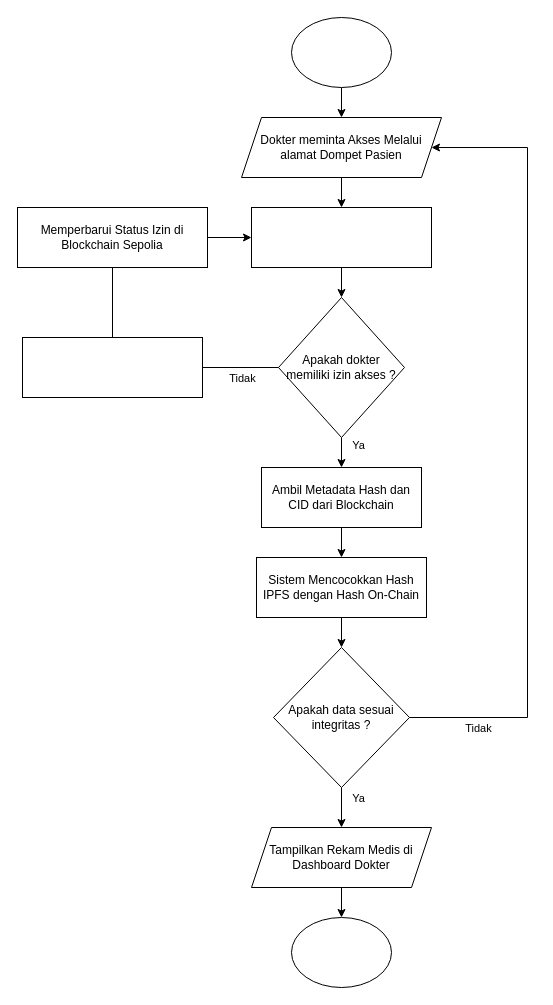
This 553x1005 diagram has some shape labels left out. Each missing label, with the box of its shape:
Kueri Smart Contract Sepolia untuk Status Izin: (250, 206, 432, 268)
Mulai: (290, 16, 392, 88)
Pasien setuju transaksi hibah akses melalui MetaMask: (22, 336, 202, 398)
Selesai: (290, 916, 392, 988)
